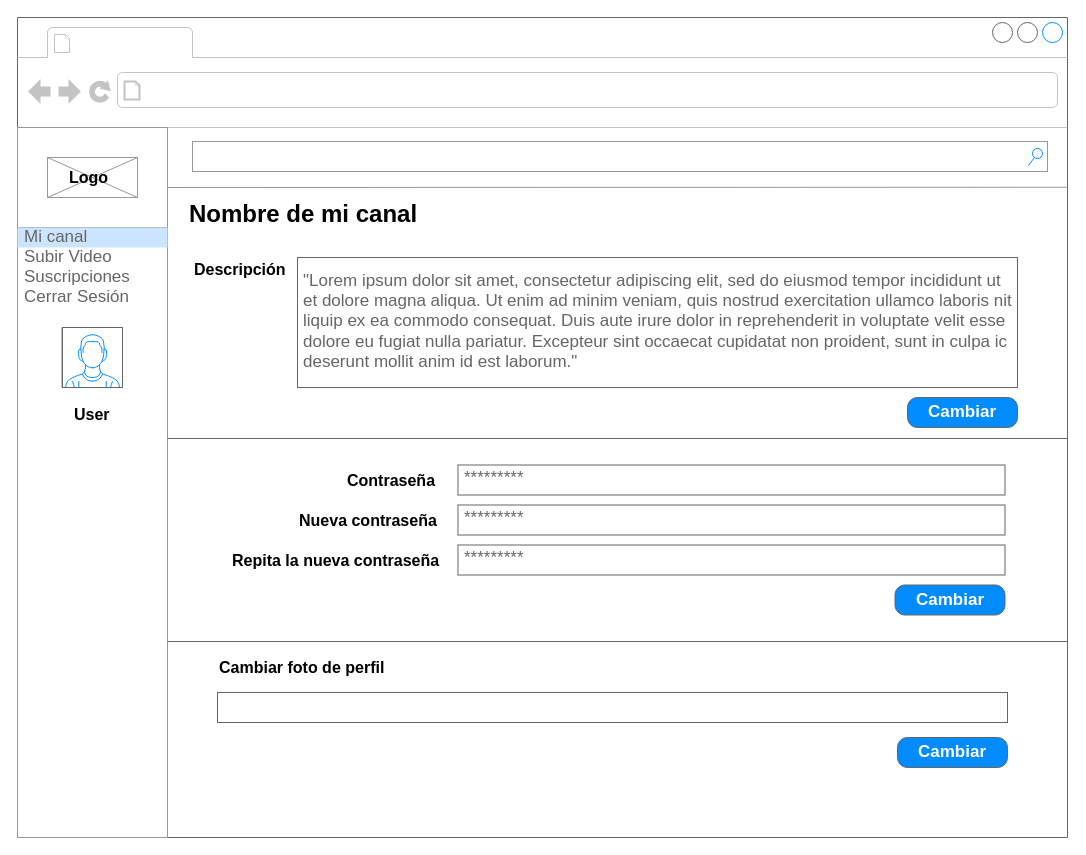
This 1086x855 diagram has some shape labels left out. The centre of each missing label's shape, as x and y in pixels:
Configurar: point (132, 42)
https://www.tube.com: point (272, 90)
Search: point (620, 156)
Seleccionar archivo...: point (612, 707)
